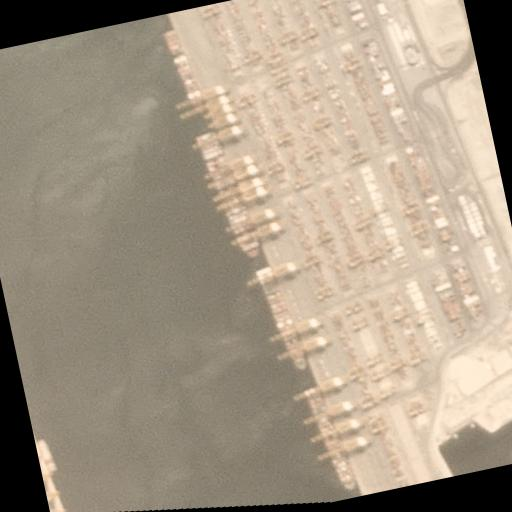ship: (191, 125, 262, 265), (251, 262, 308, 376), (302, 384, 358, 497), (158, 26, 206, 114)
